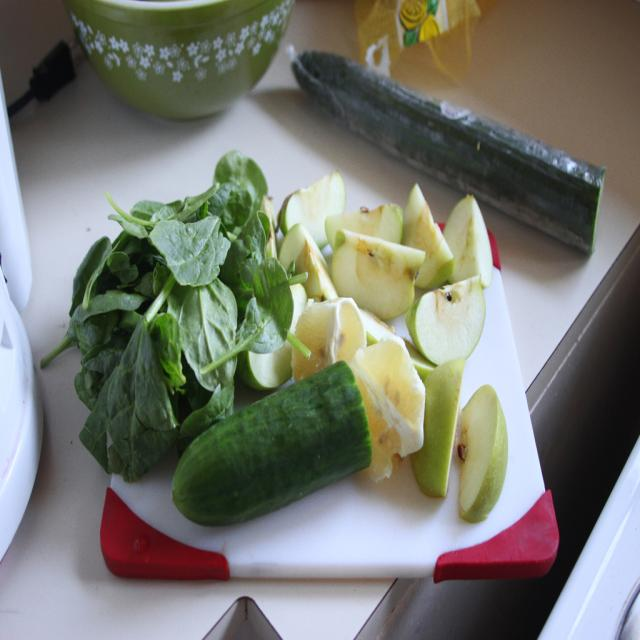Healty Apple: (238, 170, 509, 524), (406, 269, 484, 368)
